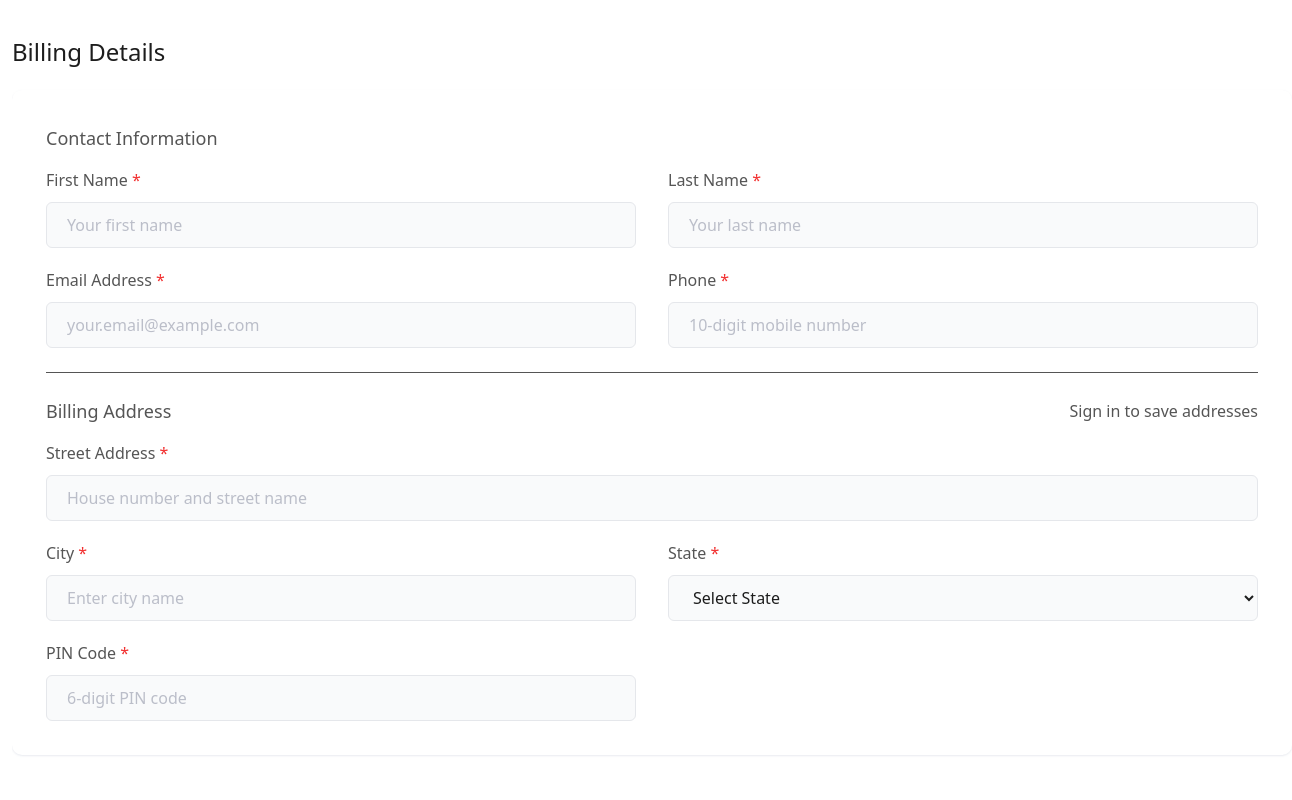
Test case: BillingNew › Unit Tests - Guest User › should only allow numeric input in phone field
The image size is (1292, 800).
Type "abc9876543210xyz" into the field labelled "Phone *".
click(963, 325); type("abc9876543210xyz")  # box [668, 302, 1258, 348]
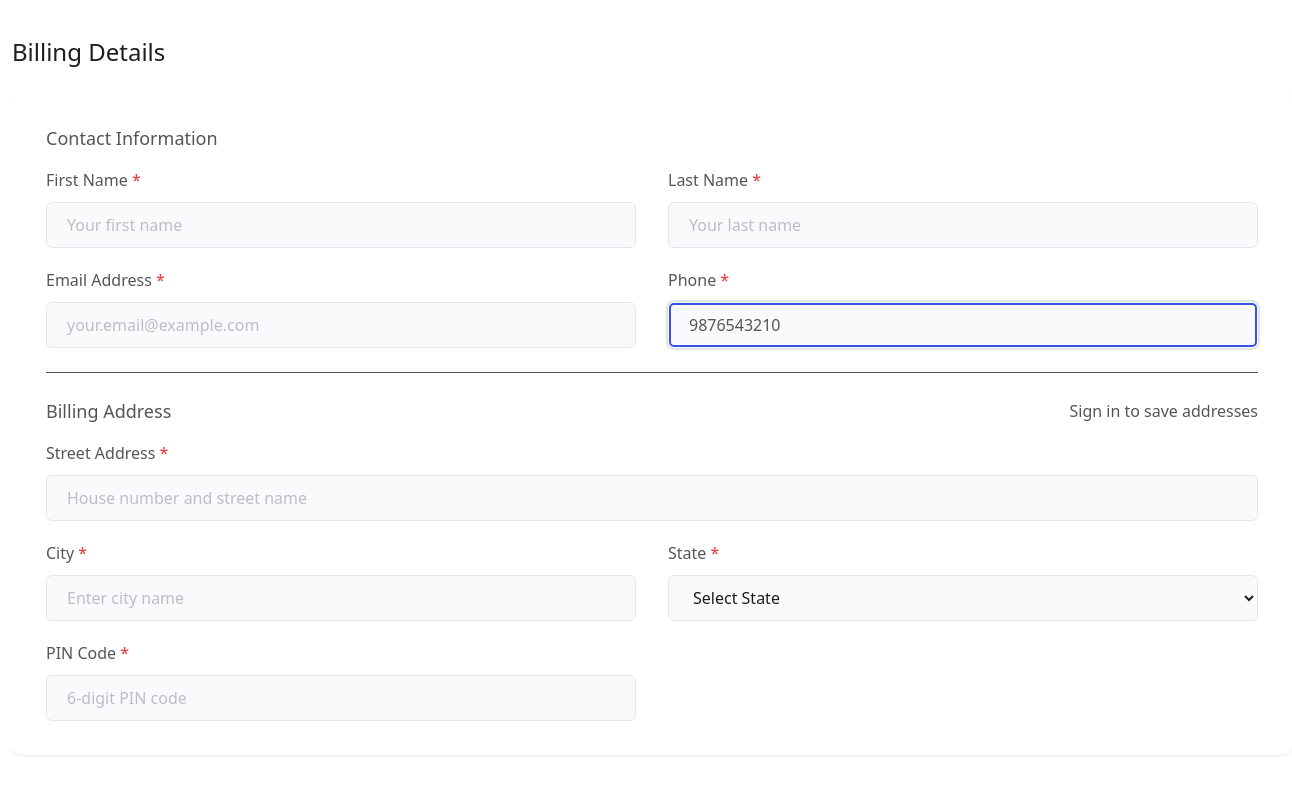
Expected: the field labelled "Phone *" holds "9876543210", [668, 302, 1258, 348]
